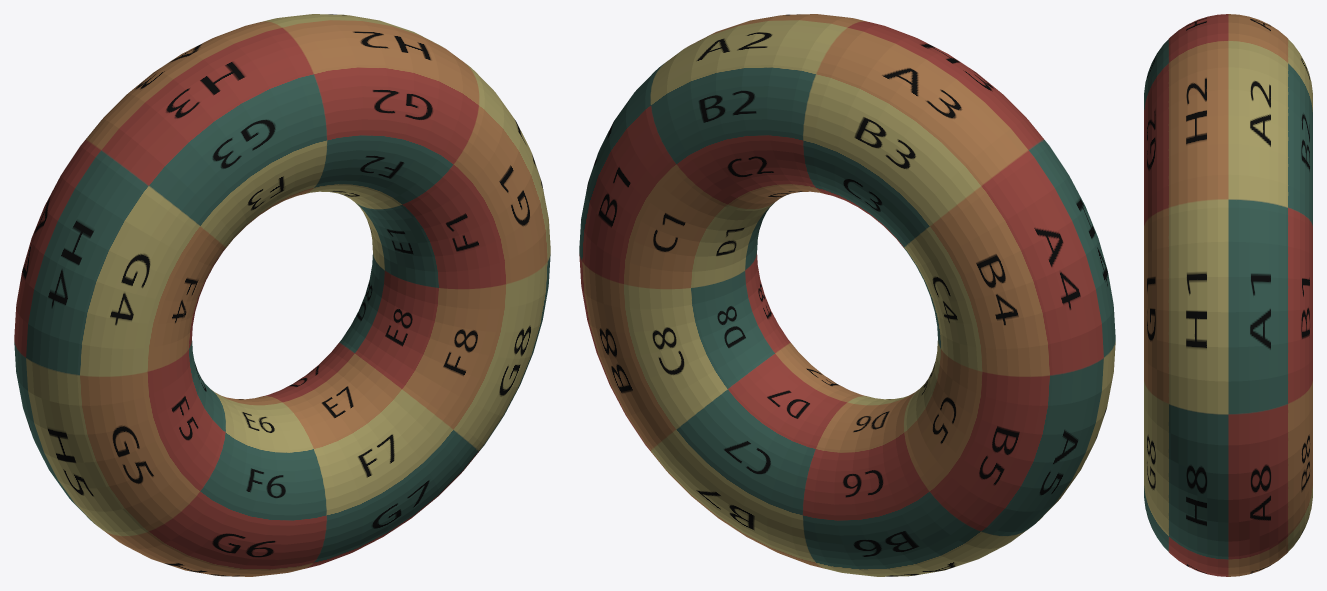
File: texture_torus_R19_r29.glb
3 renders of one model, left to right at view 1: azimuth 30°, elevation 25°; view 2: azimuth 150°, elevation 25°; view 3: azimuth 270°, elevation 25°, orthographic. The views are drawn at different scales.
Visible parts, largest first — view 1: world; view 2: world; view 3: world.
Boxes of the visible parts, bbox=[...] form: world: bbox=[14, 14, 550, 576]; world: bbox=[579, 14, 1115, 576]; world: bbox=[1144, 14, 1312, 576].
Bounding box in the file's own units: 32.4 × 32.34 × 9.71.
1 material, 1 textured.
